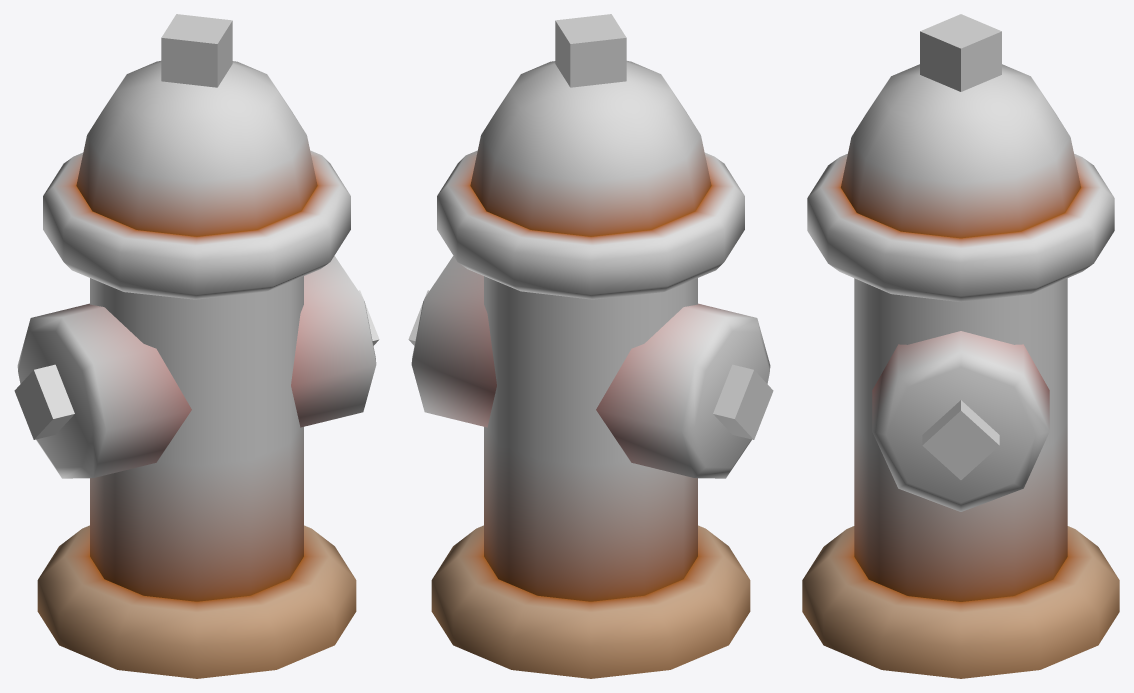
The model's file is NF_Env_Hidrant.fbx.
3 renders of one model, left to right at view 1: azimuth 30°, elevation 25°; view 2: azimuth 150°, elevation 25°; view 3: azimuth 270°, elevation 25°, orthographic.
Parts seen in each view (by area): view 1: Fire Hidrant; view 2: Fire Hidrant; view 3: Fire Hidrant.
Boxes of the visible parts, left/top/right/bottom form: Fire Hidrant: left=14, top=14, right=379, bottom=678; Fire Hidrant: left=408, top=14, right=773, bottom=678; Fire Hidrant: left=802, top=14, right=1119, bottom=678.
Bounding box in the file's own units: 0.6321 × 1.08 × 0.5342.
